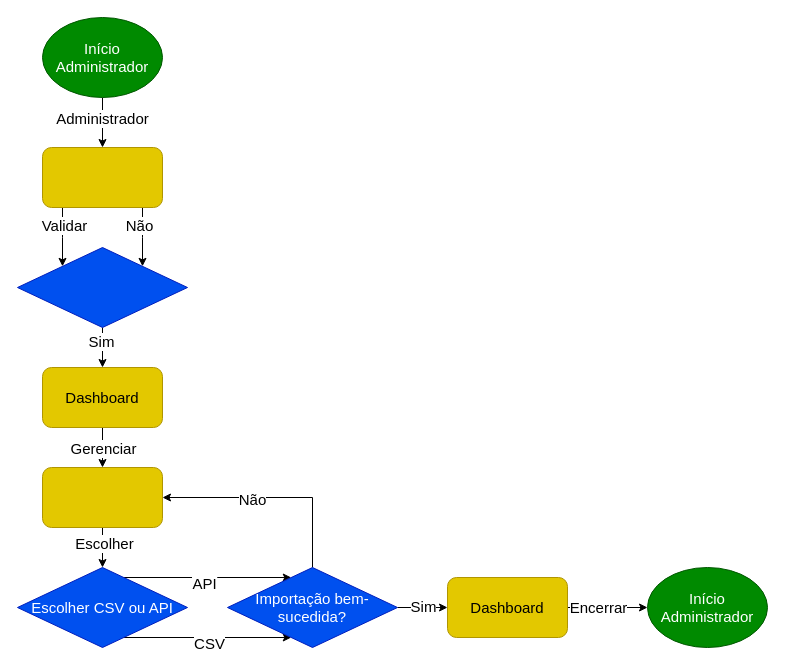
Some shapes in this 785 by 669 pixel diagram are drawn without their labels. The shapes that lost their labels are listed below. From the top down, each one's box as (x1, y1, x2, y2) in pixels, then its label:
(42, 146, 162, 208): Login
(16, 246, 188, 328): Credenciais válidas?
(42, 466, 162, 528): Importar dados
